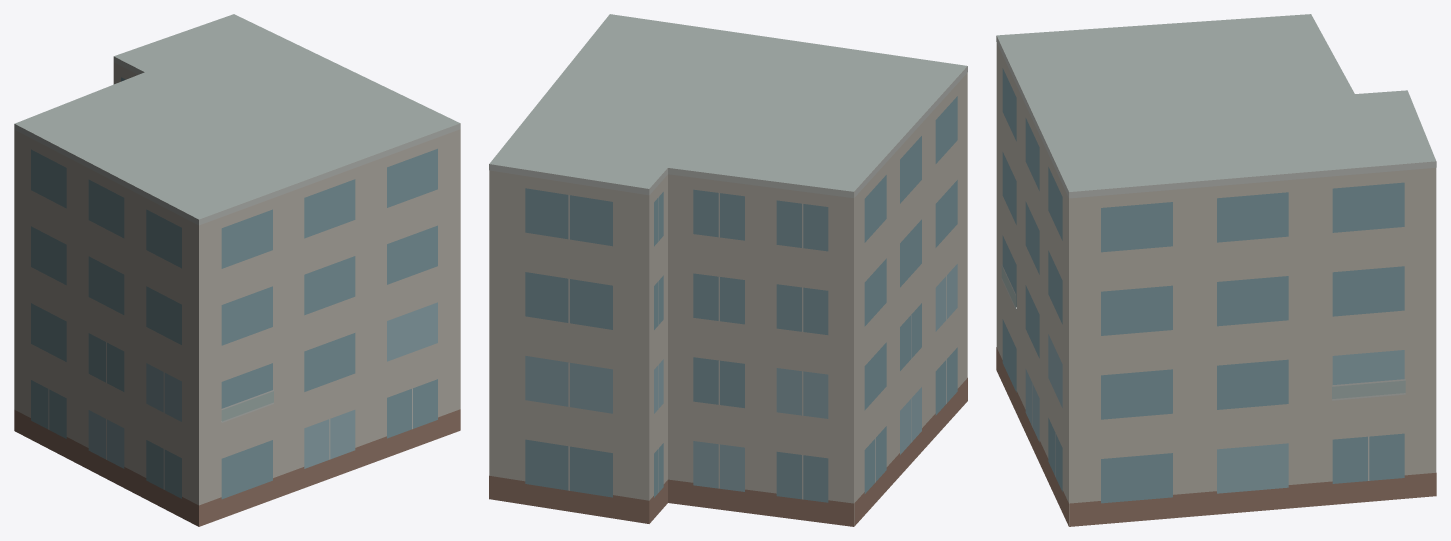
File: survey-upis-32575699.glb
3 views of the same model, side by side, from view 1: azimuth 30°, elevation 25°; view 2: azimuth 150°, elevation 25°; view 3: azimuth 270°, elevation 25° (orthographic). The views are drawn at different scales.
Parts seen in each view (by area): view 1: survey-upis-32575699.tmp; view 2: survey-upis-32575699.tmp; view 3: survey-upis-32575699.tmp.
Part boxes in pixels (left/top/right/bottom): survey-upis-32575699.tmp: left=14, top=14, right=460, bottom=526; survey-upis-32575699.tmp: left=489, top=14, right=967, bottom=526; survey-upis-32575699.tmp: left=996, top=14, right=1436, bottom=526.
Size of the model in its own units: 14.62 by 12.8 by 15.26.
